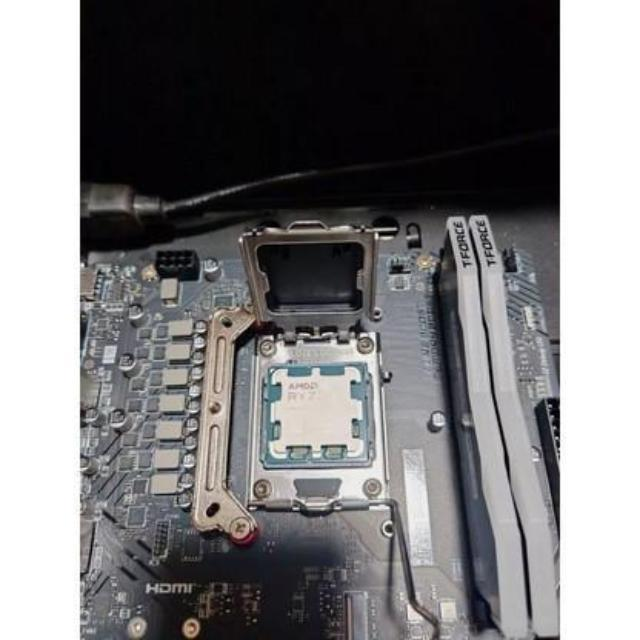CPU: (268, 366, 370, 460)
